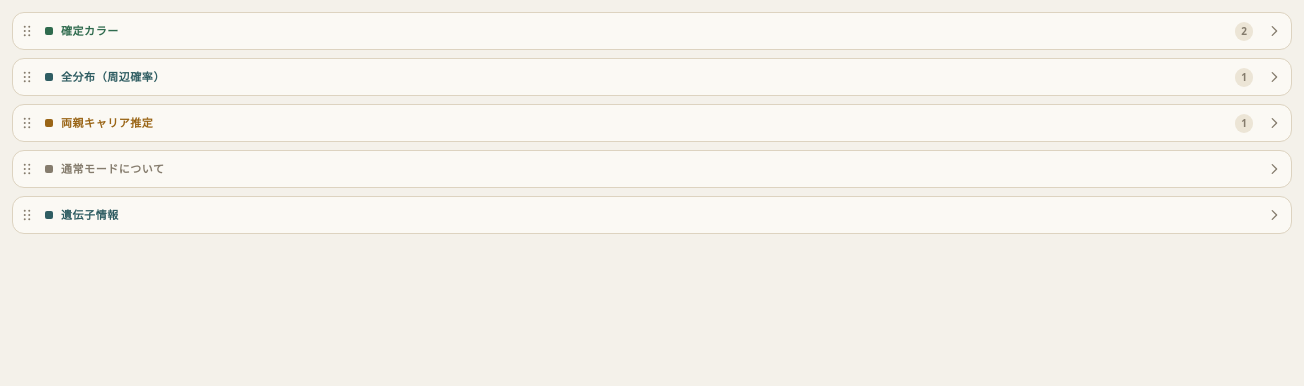
Test: ResultView conditional colors › 両親キャリア推定バッジに親ラベルと遺伝子型が表示される
Click the button "両親キャリア推定 1": (107, 122) x1=45 y1=106 x2=1291 y2=140
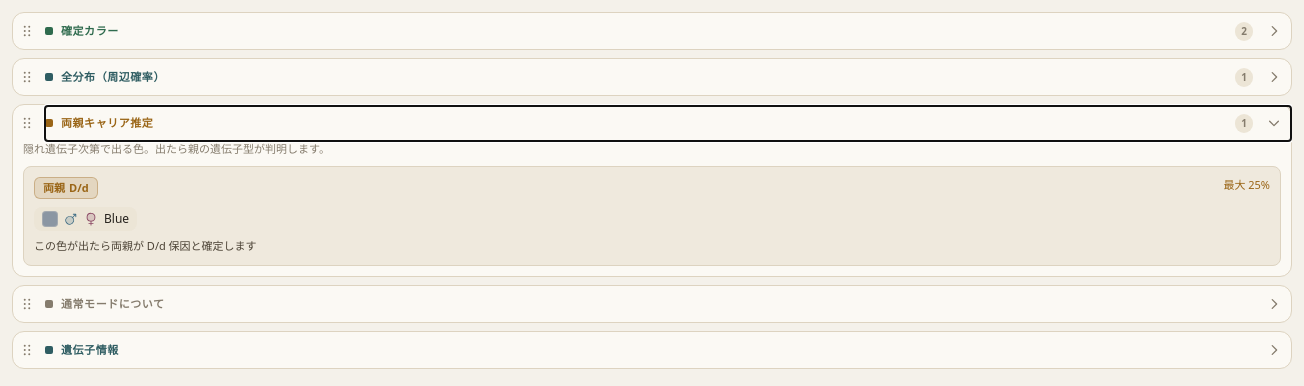
Now the number of elements with test id "carrier-badge" is 1, box x1=34 y1=176 x2=98 y2=199
Now the element with test id "carrier-badge" shows "両親", box x1=43 y1=180 x2=65 y2=194
Now the element with test id "carrier-badge" shows "D/d", box x1=69 y1=180 x2=89 y2=194
